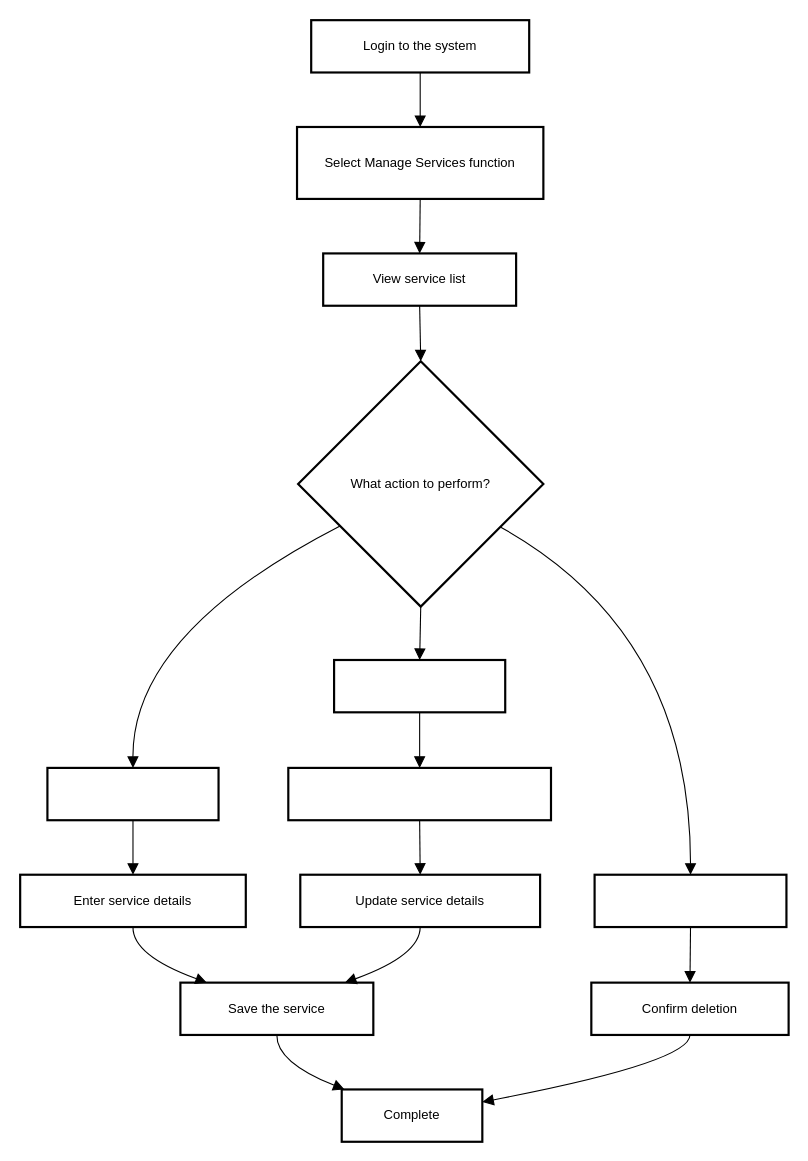
Image size: 808x1161. Some labels were removed from this diagram. Here are the shapes that lost their labels. From the top down, the box of each, then its label:
(332, 658, 506, 713): Edit a service
(46, 766, 219, 821): Add a service
(287, 766, 552, 821): Select the service to edit
(593, 873, 787, 928): Delete a service
